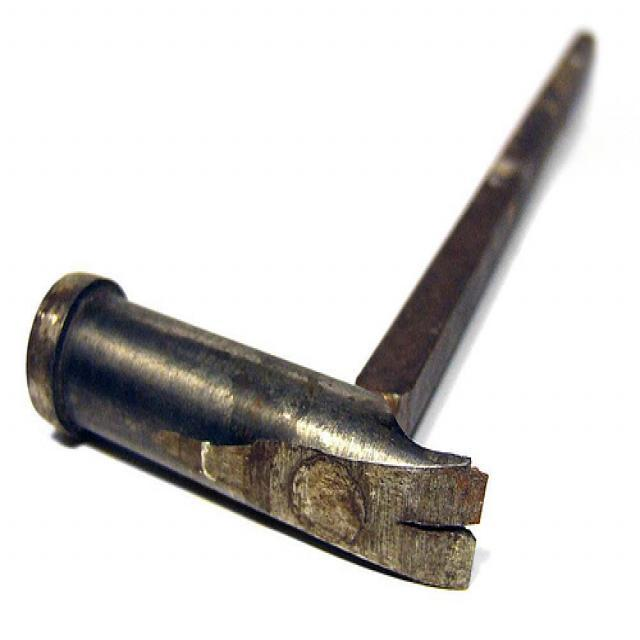hammer: (22, 14, 607, 598)
